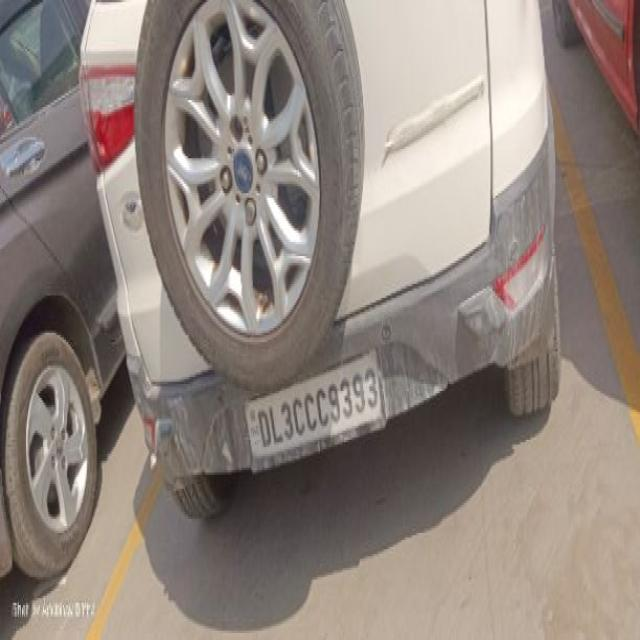license_plate: (241, 347, 386, 472)
